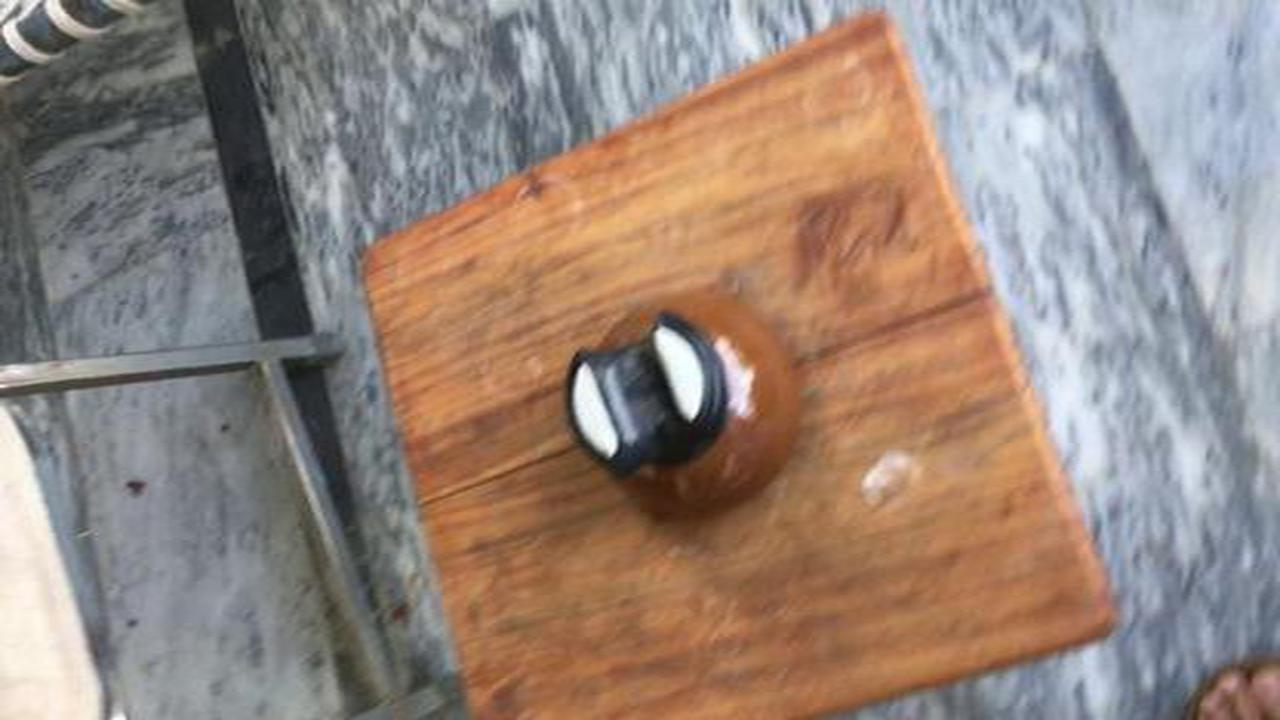insulator_pin: (536, 283, 834, 535)
